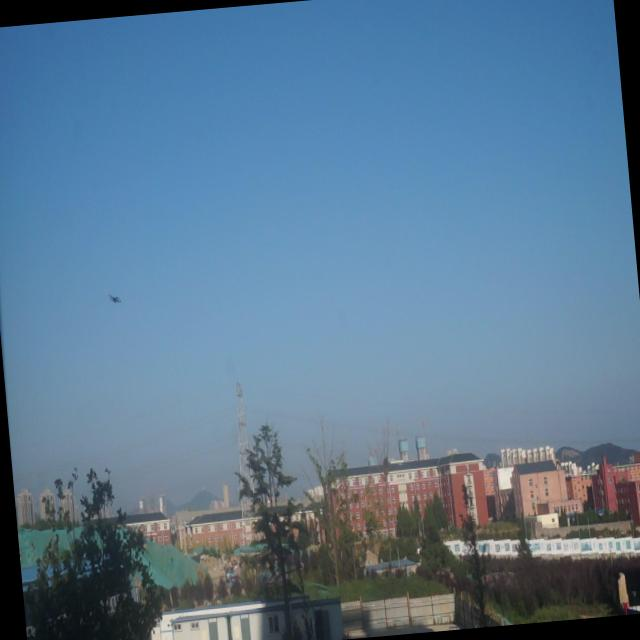drone: (105, 286, 121, 308)
